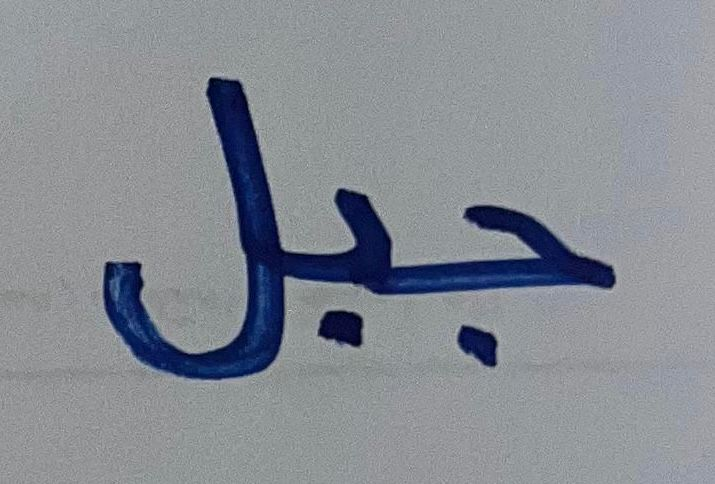beh: (292, 162, 412, 367)
jeem: (415, 169, 631, 377)
lam: (77, 45, 289, 391)
